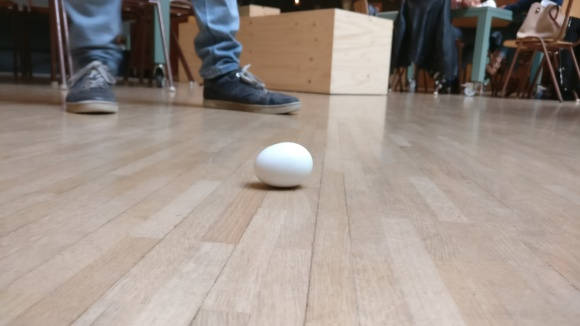egg: (252, 140, 315, 189)
